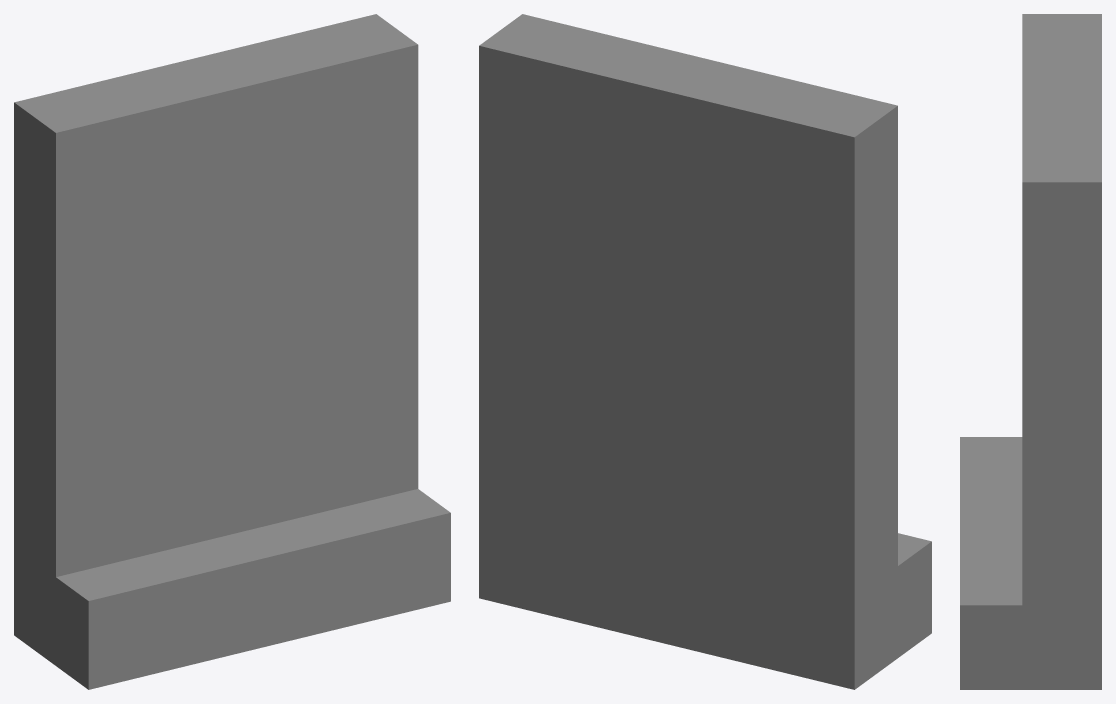
The model's file is headstone_03.fbx.
3 views of the same model, side by side, from view 1: azimuth 30°, elevation 25°; view 2: azimuth 150°, elevation 25°; view 3: azimuth 270°, elevation 25° (orthographic). The views are drawn at different scales.
Parts seen in each view (by area): view 1: headstone_03; view 2: headstone_03; view 3: headstone_03.
Boxes of the visible parts, left/top/right/bottom form: headstone_03: left=14, top=14, right=450, bottom=689; headstone_03: left=479, top=14, right=931, bottom=689; headstone_03: left=960, top=14, right=1101, bottom=689.
Size of the model in its own units: 0.96 by 1.35 by 0.342.
